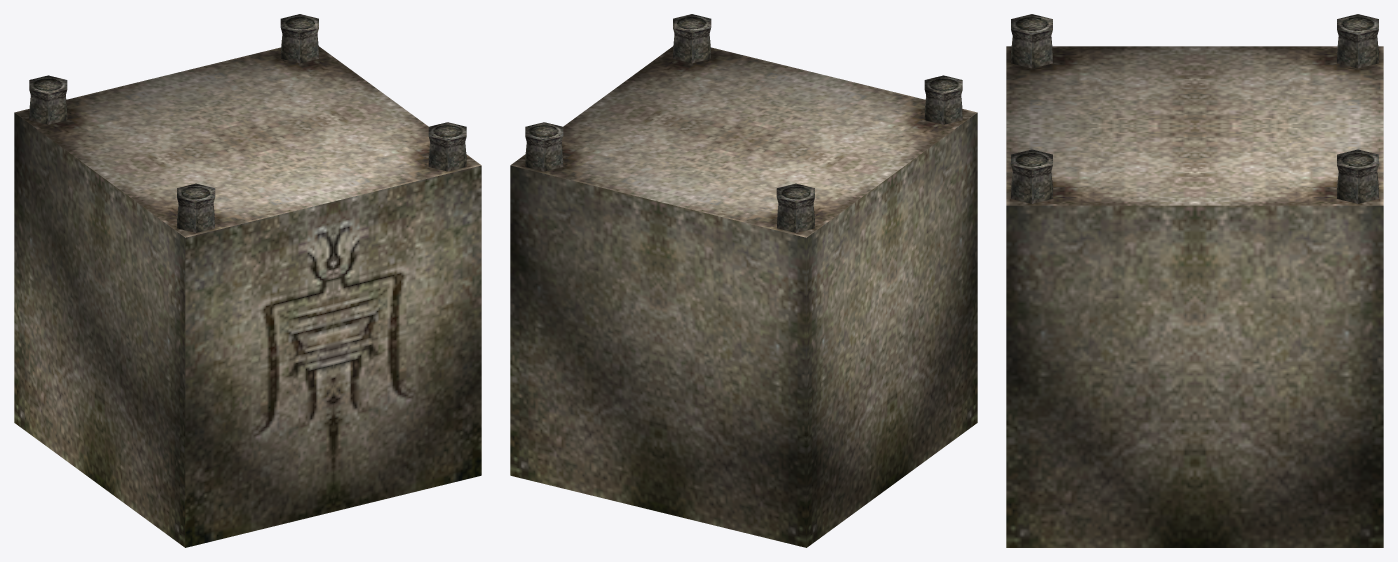
File: landmark_grandstone02.glb
3 views of the same model, side by side, from view 1: azimuth 30°, elevation 25°; view 2: azimuth 150°, elevation 25°; view 3: azimuth 270°, elevation 25° (orthographic). The views are drawn at different scales.
Parts seen in each view (by area): view 1: Box02; view 2: Box02; view 3: Box02.
Part boxes in pixels (box(x1,y1,x2,y2)): Box02: box(14, 14, 481, 547); Box02: box(510, 14, 977, 547); Box02: box(1006, 14, 1383, 547).
Size of the model in its own units: 4.74 by 5.21 by 4.74.
1 material, 1 textured.
